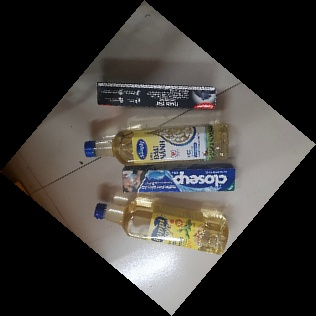CloseUp Tuyet: (120, 162, 236, 198)
Colgate Than: (93, 80, 218, 115)
Happy Soya: (94, 196, 228, 258)
Simply: (83, 119, 228, 165)
